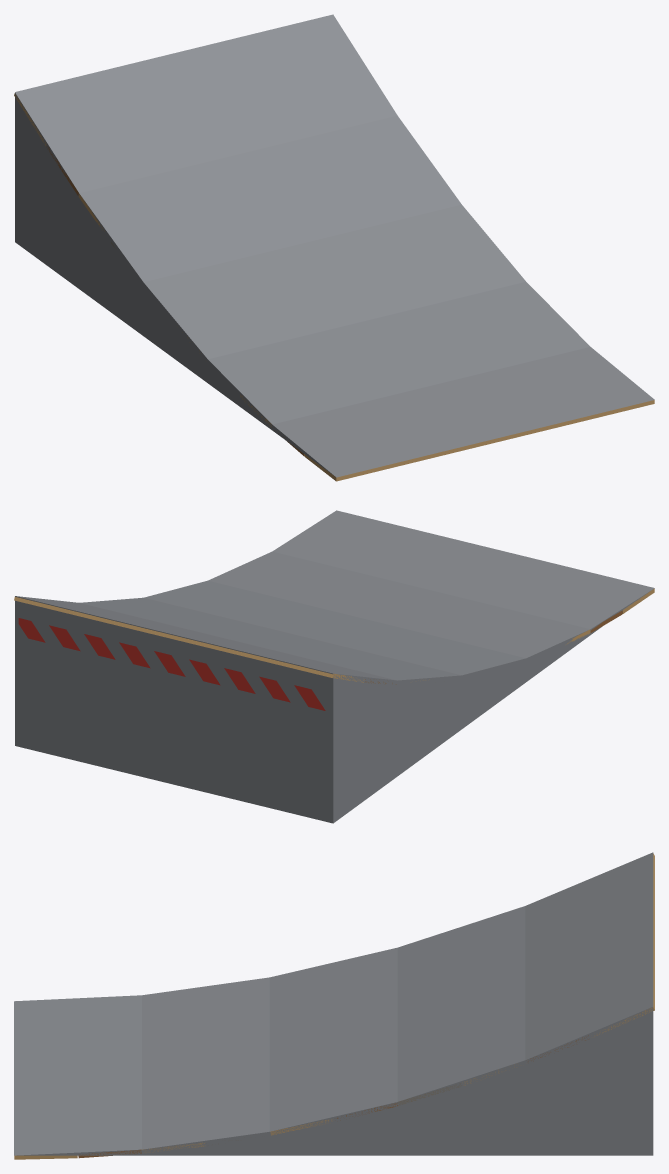
Rendered from prop_ramp_stunt.glb.
The picture shows the model from 3 angles, top to bottom: view 1: azimuth 30°, elevation 25°; view 2: azimuth 150°, elevation 25°; view 3: azimuth 270°, elevation 25°; orthographic projection.
Visible parts, largest first — view 1: prop_ramp_stunt__col, prop_ramp_stunt__mesh; view 2: prop_ramp_stunt__col, prop_ramp_stunt__mesh; view 3: prop_ramp_stunt__col, prop_ramp_stunt__mesh.
Part boxes in pixels (x1,y1,x2,y2): prop_ramp_stunt__col: (15, 14, 654, 477); prop_ramp_stunt__mesh: (14, 93, 654, 481); prop_ramp_stunt__col: (15, 510, 654, 823); prop_ramp_stunt__mesh: (14, 588, 654, 710); prop_ramp_stunt__col: (14, 852, 653, 1155); prop_ramp_stunt__mesh: (14, 853, 654, 1159).
Bounding box in the file's own units: 4 × 1.85 × 7.02.
1 material, 1 textured.
